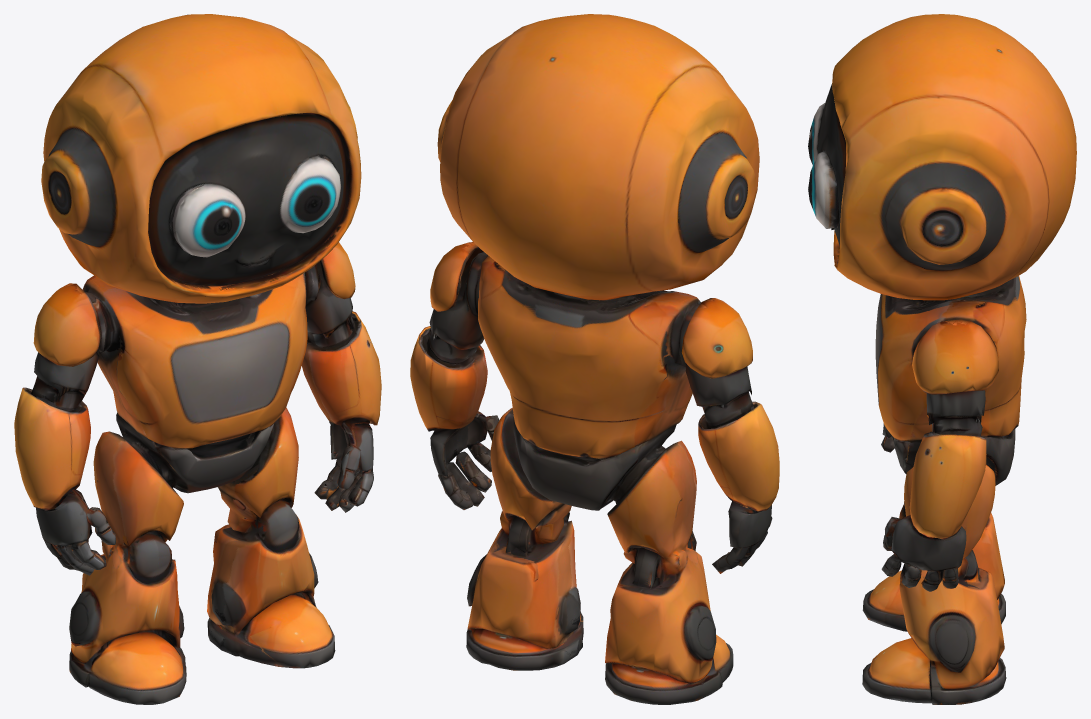
File: Robo_Companion_0521033517_texture.glb
The picture shows the model from 3 angles, left to right: view 1: azimuth 30°, elevation 25°; view 2: azimuth 150°, elevation 25°; view 3: azimuth 270°, elevation 25°; orthographic projection. The views are drawn at different scales.
Size of the model in its own units: 1.19 by 2 by 0.7913.
Materials: 1 (1 with a texture image).
